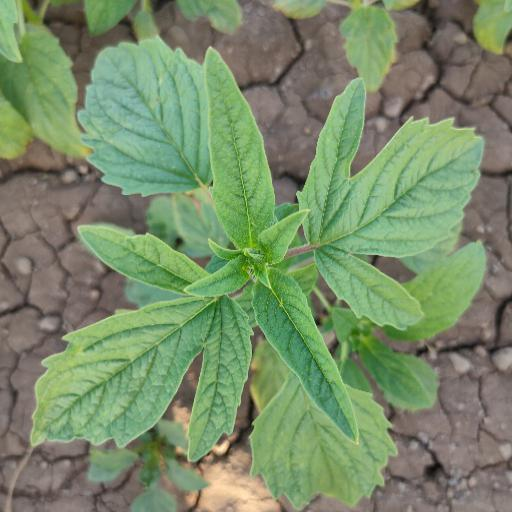crop: (32, 40, 485, 484)
